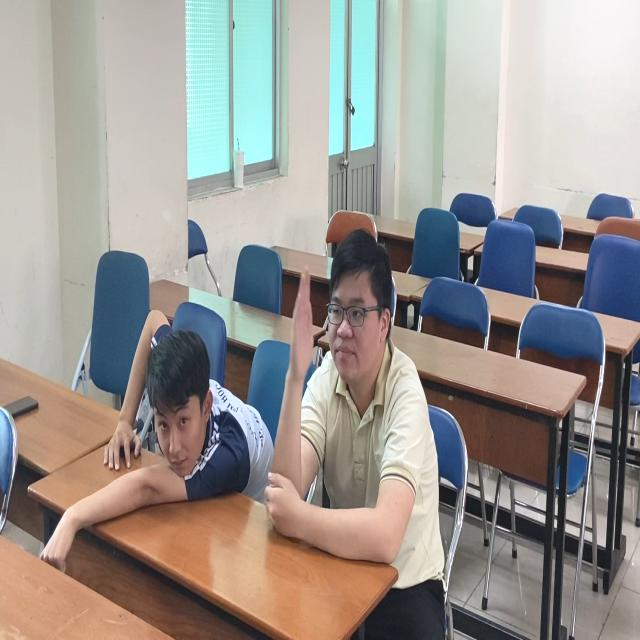raise_hand: (277, 227, 457, 599)
